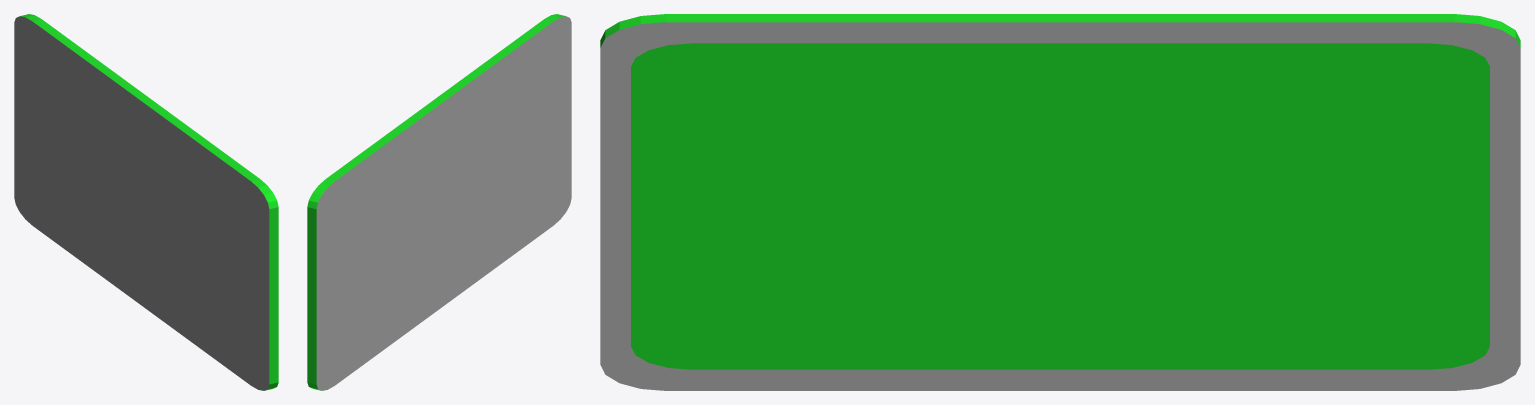
File: highScoreSign.fbx
The picture shows the model from 3 angles, left to right: view 1: azimuth 30°, elevation 25°; view 2: azimuth 150°, elevation 25°; view 3: azimuth 270°, elevation 25°; orthographic projection. The views are drawn at different scales.
Visible parts, largest first — view 1: Cube; view 2: Cube; view 3: Cube.
Boxes of the visible parts, x1,y1,x2,y2 form: Cube: (14, 14, 278, 390); Cube: (307, 14, 571, 390); Cube: (600, 14, 1520, 390).
Bounding box in the file's own units: 0.0381 × 0.8004 × 1.81.
